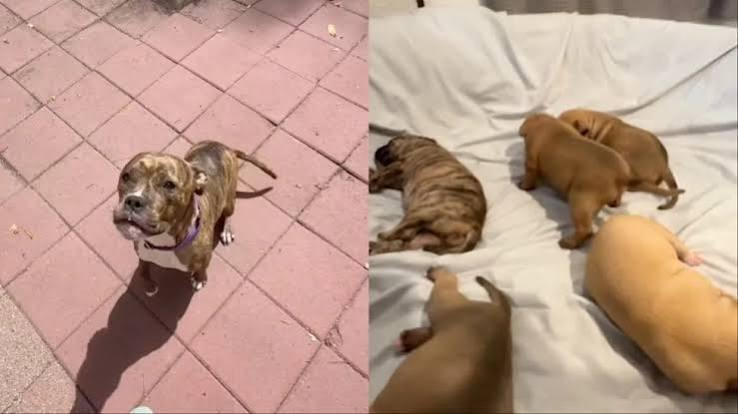adult_dog: (112, 138, 278, 297)
puppy-dog: (582, 212, 738, 399), (369, 264, 515, 414), (518, 113, 628, 251), (369, 132, 488, 257), (558, 108, 684, 196)
